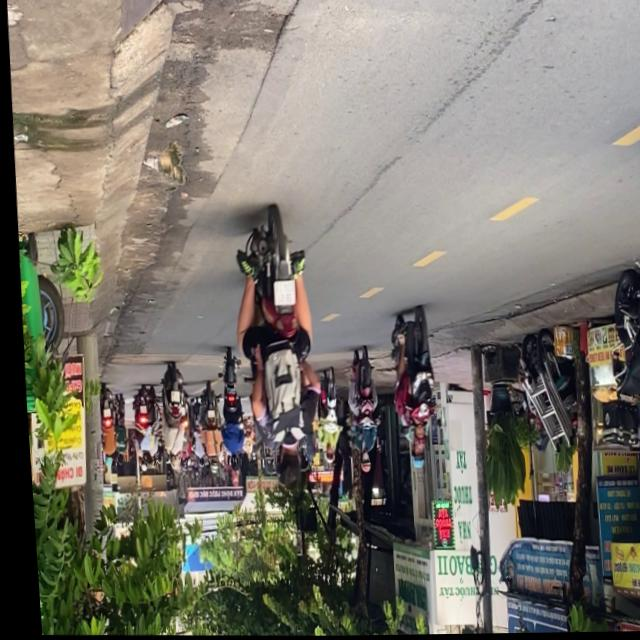helmet: (405, 423, 420, 449), (405, 446, 419, 470), (352, 451, 364, 473)
licenseplate: (221, 207, 321, 491), (378, 306, 438, 472), (336, 347, 378, 475)
motorcyclist: (267, 443, 296, 487)
nohelmet: (269, 280, 291, 306)
